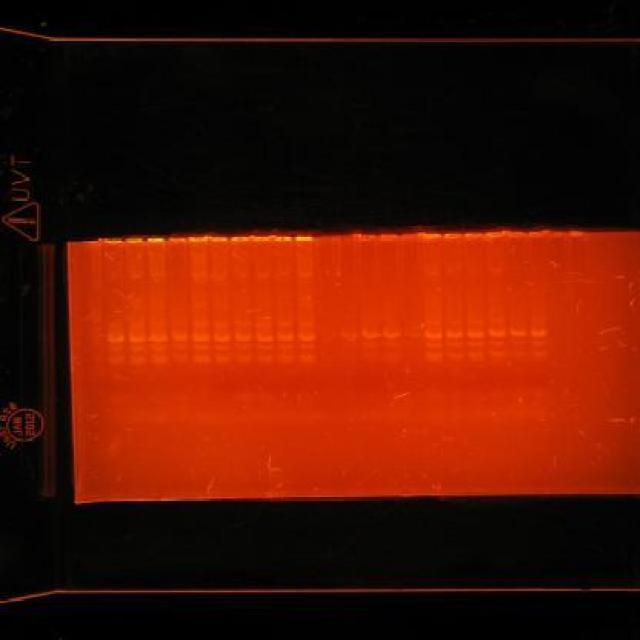B: (126, 354, 148, 368), (106, 354, 126, 368), (192, 352, 212, 366), (212, 331, 232, 344), (381, 326, 401, 339), (189, 316, 209, 329), (253, 353, 275, 364), (125, 320, 147, 331), (254, 330, 274, 342), (298, 352, 316, 365), (233, 330, 252, 342), (104, 333, 124, 344), (148, 333, 168, 344), (296, 331, 316, 342), (276, 352, 296, 363), (423, 351, 443, 362), (444, 351, 464, 362), (360, 328, 380, 339), (382, 351, 402, 362), (150, 354, 168, 366), (213, 352, 232, 363), (127, 334, 147, 344), (170, 352, 190, 362), (508, 328, 528, 338), (422, 316, 442, 326), (466, 316, 486, 326), (234, 353, 252, 364), (487, 348, 505, 359), (276, 332, 295, 342), (529, 328, 548, 338), (487, 328, 505, 338), (464, 329, 484, 338), (444, 330, 464, 339), (422, 331, 442, 340), (338, 331, 358, 340), (360, 352, 380, 361), (231, 270, 252, 278), (192, 334, 210, 343), (212, 320, 230, 329), (254, 270, 272, 279), (466, 350, 484, 359), (530, 349, 548, 358), (422, 267, 440, 276), (362, 341, 380, 350), (170, 334, 190, 342), (106, 344, 126, 352), (253, 343, 273, 351), (211, 344, 231, 352), (169, 343, 189, 351), (148, 344, 168, 352), (296, 320, 316, 328), (296, 270, 316, 278), (274, 270, 294, 278), (464, 340, 484, 348), (508, 350, 528, 358), (508, 338, 528, 346), (275, 342, 294, 350), (232, 343, 251, 351), (275, 319, 294, 327), (529, 339, 548, 347), (128, 344, 146, 352), (192, 344, 210, 352), (487, 338, 505, 346), (254, 322, 274, 329), (423, 342, 443, 349), (233, 322, 252, 329), (298, 343, 314, 351), (445, 341, 463, 348), (382, 341, 400, 348)
L: (71, 223, 597, 251)
Pc: (568, 228, 588, 238), (547, 228, 567, 238), (82, 237, 102, 246), (103, 237, 123, 246), (188, 234, 208, 243), (378, 233, 400, 241), (210, 234, 228, 243), (146, 236, 166, 244), (463, 232, 483, 240), (442, 232, 462, 240), (400, 232, 420, 240), (294, 234, 314, 242), (125, 237, 144, 245), (358, 233, 377, 241), (316, 234, 335, 242), (168, 236, 186, 244), (507, 230, 525, 238), (422, 232, 440, 240), (274, 235, 292, 242), (337, 234, 357, 240), (252, 236, 271, 242), (486, 232, 504, 238), (230, 236, 248, 242), (528, 231, 544, 237)
